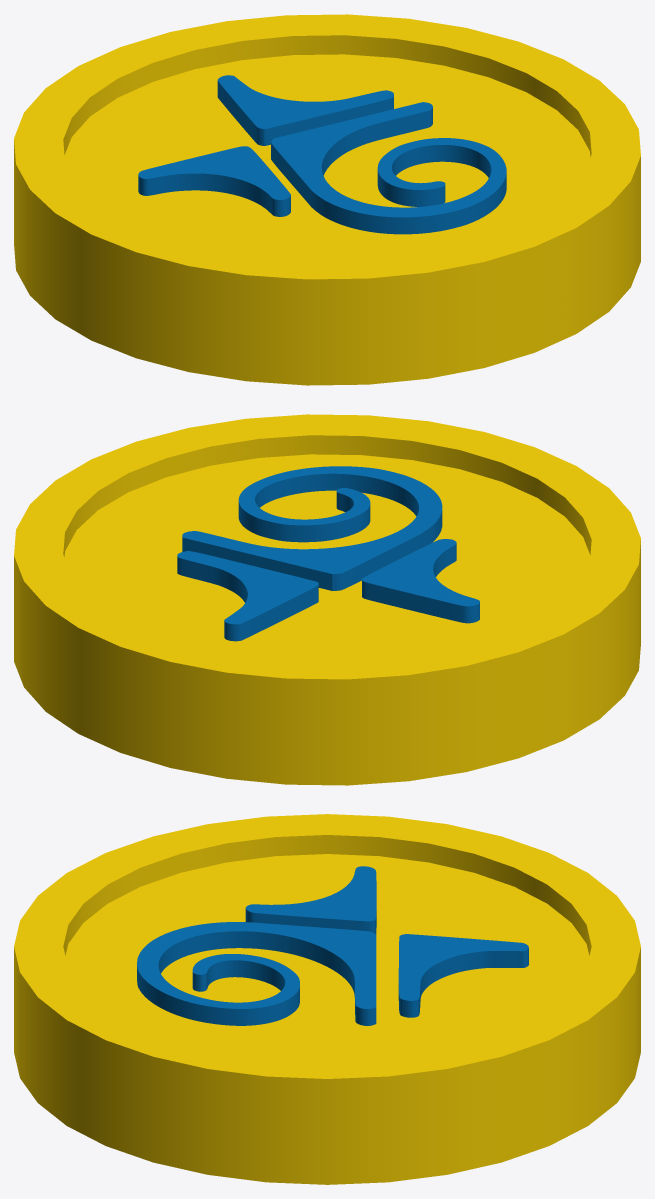
File: telebirr_coin.fbx
3 views of the same model, one above another, from view 1: azimuth 30°, elevation 25°; view 2: azimuth 150°, elevation 25°; view 3: azimuth 270°, elevation 25° (orthographic).
Parts seen in each view (by area): view 1: Cylinder; view 2: Cylinder; view 3: Cylinder.
Boxes of the visible parts, x1=… form: Cylinder: x1=14, y1=14, x2=640, y2=385; Cylinder: x1=14, y1=414, x2=640, y2=785; Cylinder: x1=14, y1=814, x2=640, y2=1184.
Bounding box in the file's own units: 21.49 × 4.01 × 21.49.
